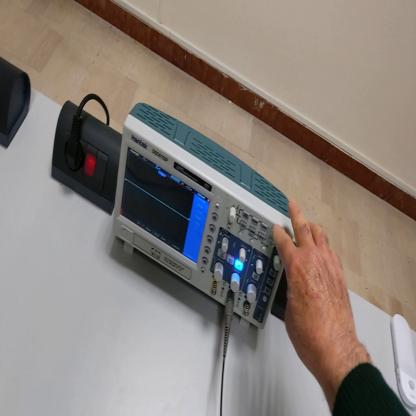hand: (272, 193, 361, 376)
oscilloscope: (111, 104, 294, 332)
socket: (49, 100, 122, 218), (1, 58, 33, 152)
